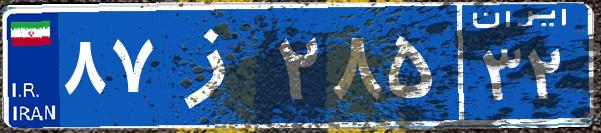2: (273, 28, 330, 110), (525, 38, 570, 115)
3: (475, 38, 525, 113)
5: (385, 28, 445, 110)
7: (110, 28, 158, 105)
8: (330, 28, 385, 110), (57, 26, 110, 107)
ز: (158, 15, 273, 115)
